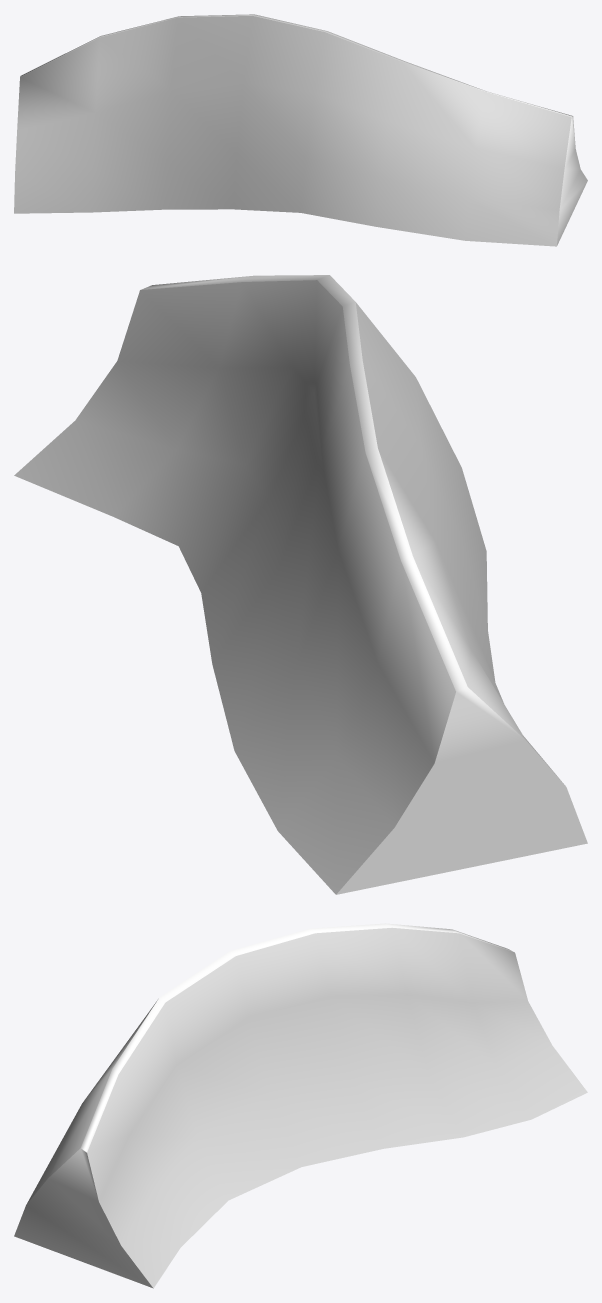
Rendered from sands2.fbx.
The picture shows the model from 3 angles, top to bottom: view 1: azimuth 30°, elevation 25°; view 2: azimuth 150°, elevation 25°; view 3: azimuth 270°, elevation 25°; orthographic projection. The views are drawn at different scales.
Visible parts, largest first — view 1: Cube.001; view 2: Cube.001; view 3: Cube.001.
Part boxes in pixels (x1,y1,x2,y2): Cube.001: [14, 14, 587, 246]; Cube.001: [14, 275, 587, 894]; Cube.001: [14, 923, 587, 1288].
Size of the model in its own units: 6.5 by 2.66 by 6.19.
1 material, 1 textured.
